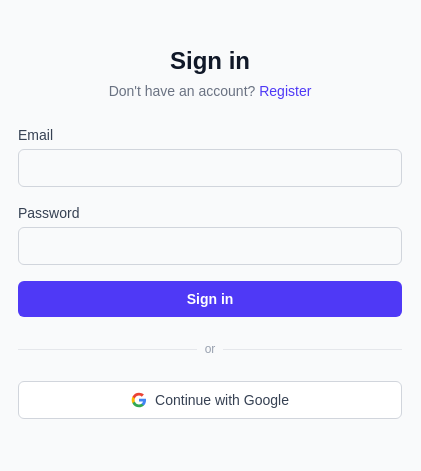
it: LoginPage › shows error message on ApiError
Type "wrong@example.com" into the field labelled "Email" at {"x": 210, "y": 168}, box [18, 149, 402, 187]
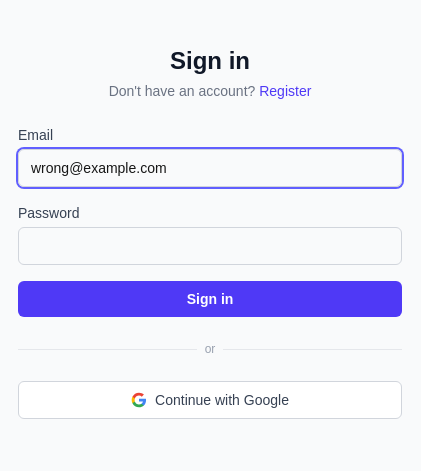
Type "wrongpass" into the password field labelled "Password" at {"x": 210, "y": 246}, box [18, 227, 402, 265]
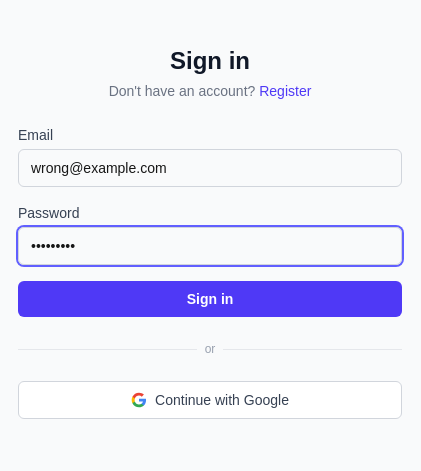
Click the button "Sign in" at {"x": 210, "y": 299}, box [18, 281, 402, 317]
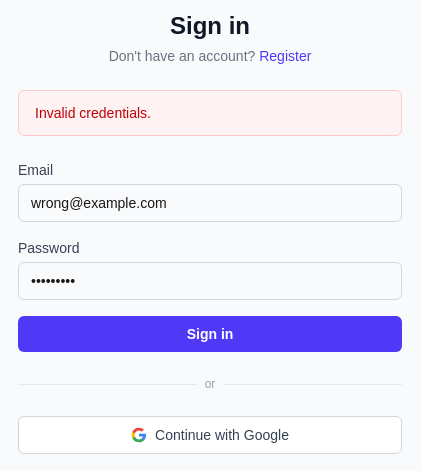
expect the text "Invalid credentials." is shown: met, box [18, 90, 402, 136]
